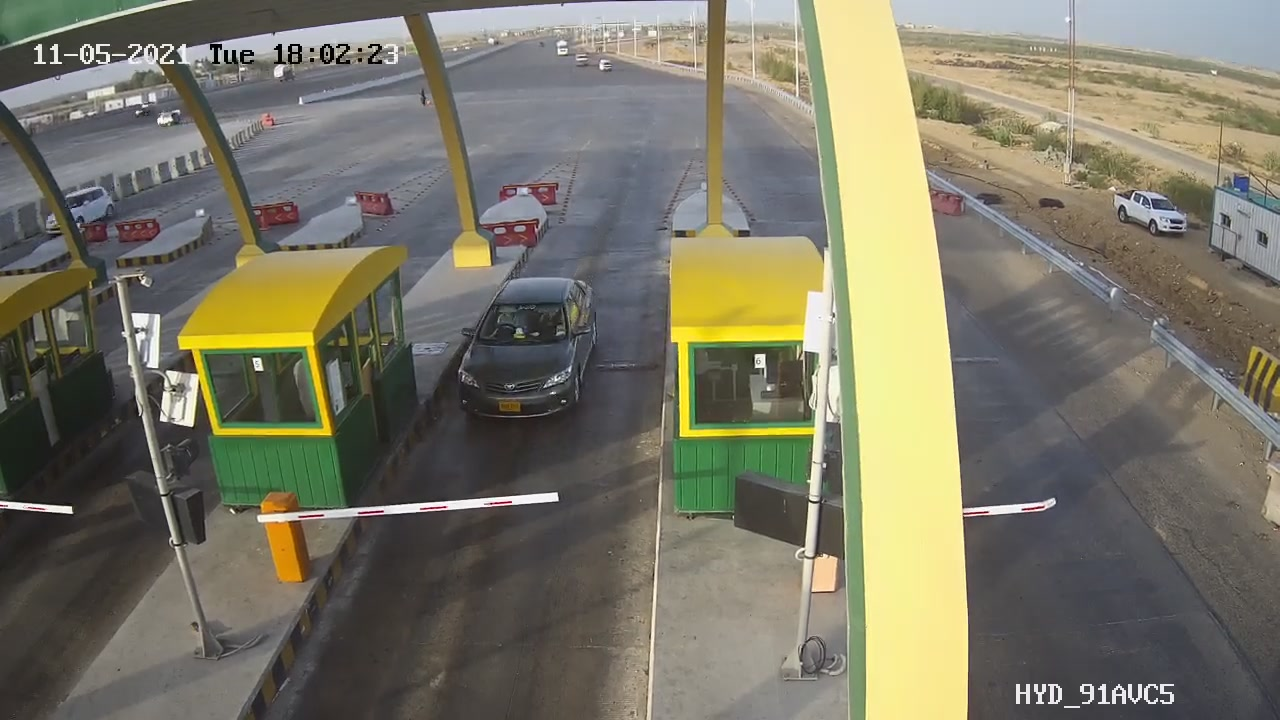F1: (438, 262, 612, 440)
